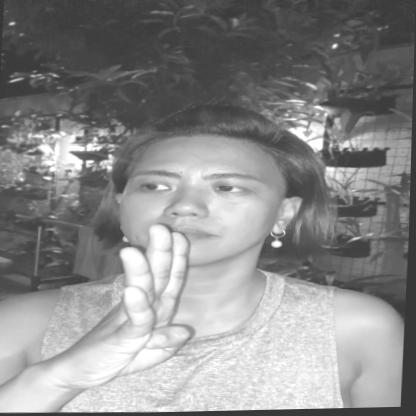Talk: (61, 93, 344, 382)
